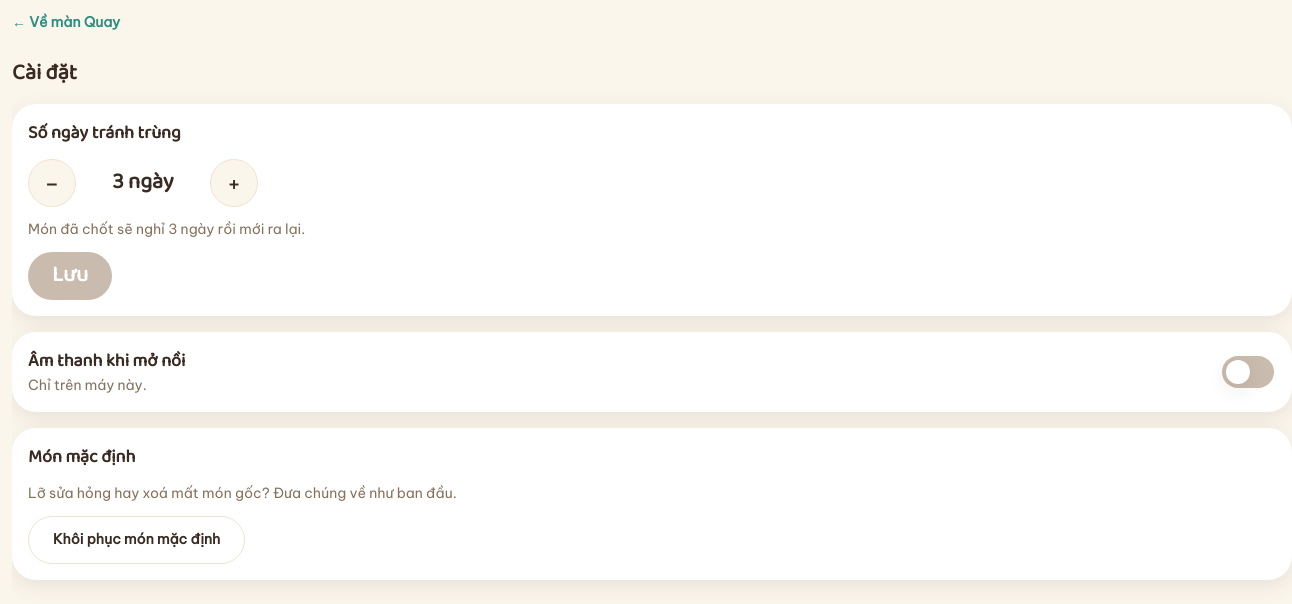
Test: SettingsScreen › đổi rồi lưu: gửi số mới, xong báo "Đã lưu." và Lưu khoá lại
What coordinates should you click on to do the following:
click the button named "Thêm một ngày"
I would click on:
 (234, 182)
Its box is [210,158,258,206].
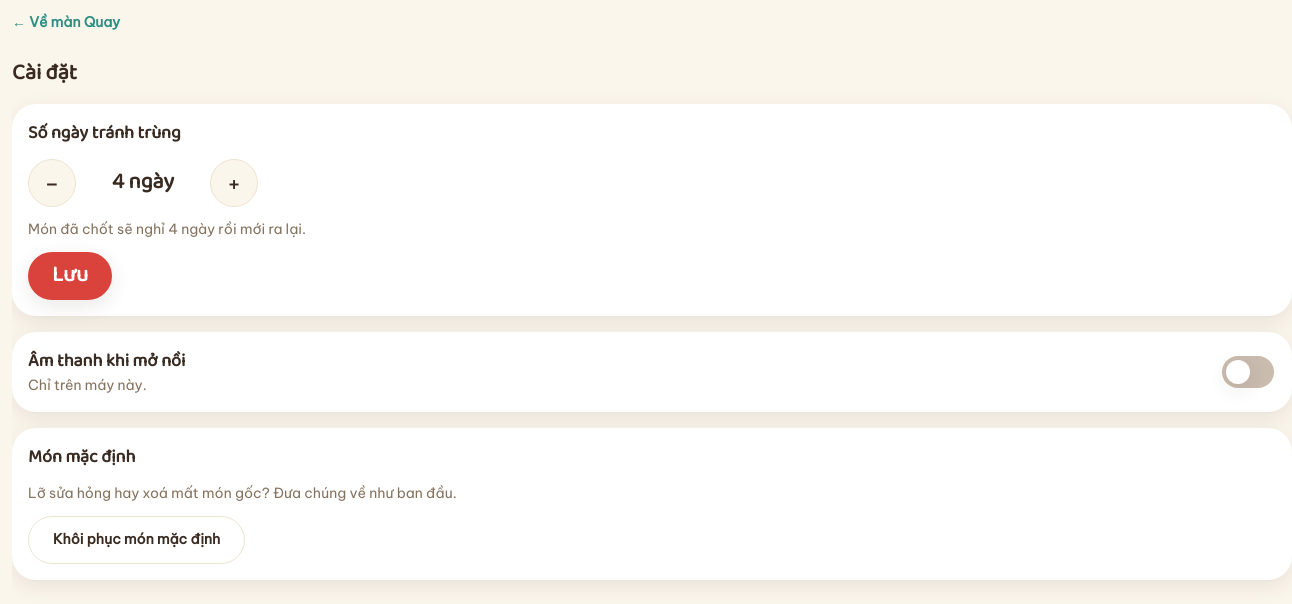
What coordinates should you click on to do the following:
click the button named "Thêm một ngày"
I would click on:
 (234, 182)
Its box is [210,158,258,206].
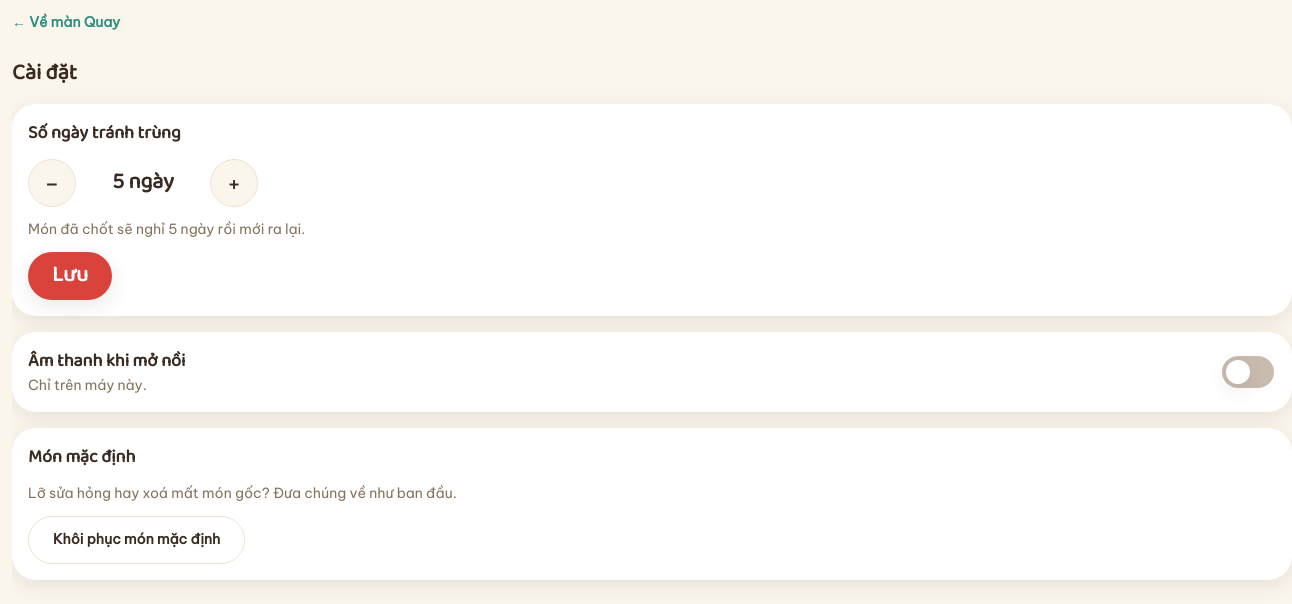
Result: the button "Lưu" is enabled
Result: the text "5 ngày" is shown at [112,164,174,200]
What coordinates should you click on to do the following:
click the button "Lưu"
I would click on:
 (70, 276)
Its box is [28,252,112,300].
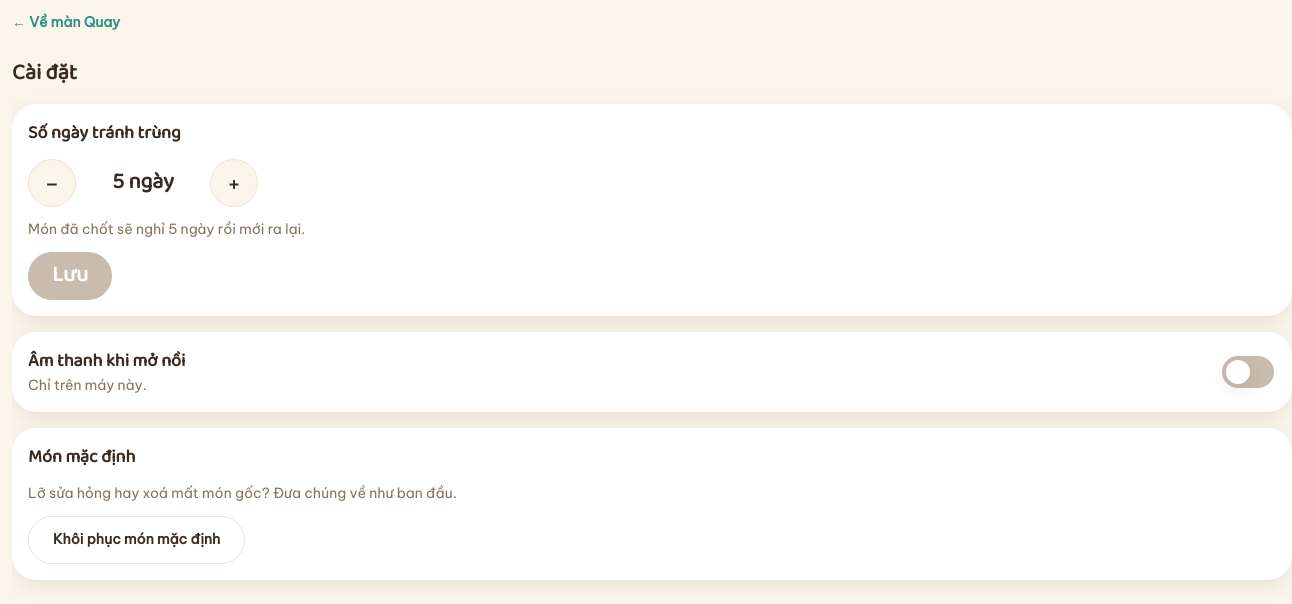
Result: the button "Lưu" is disabled at [28,252,112,300]
